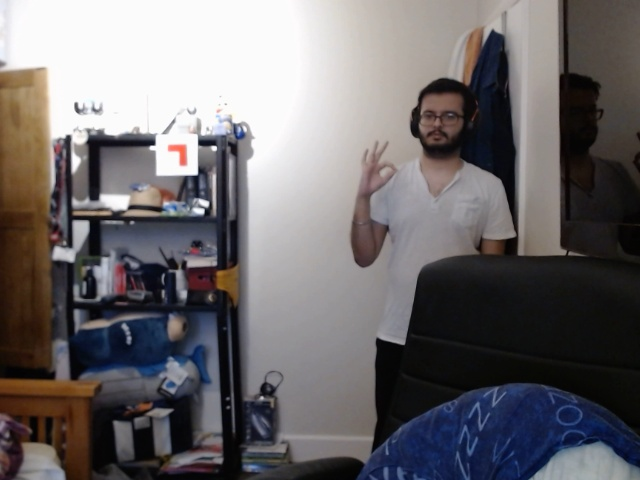Okay: (353, 139, 403, 201)
